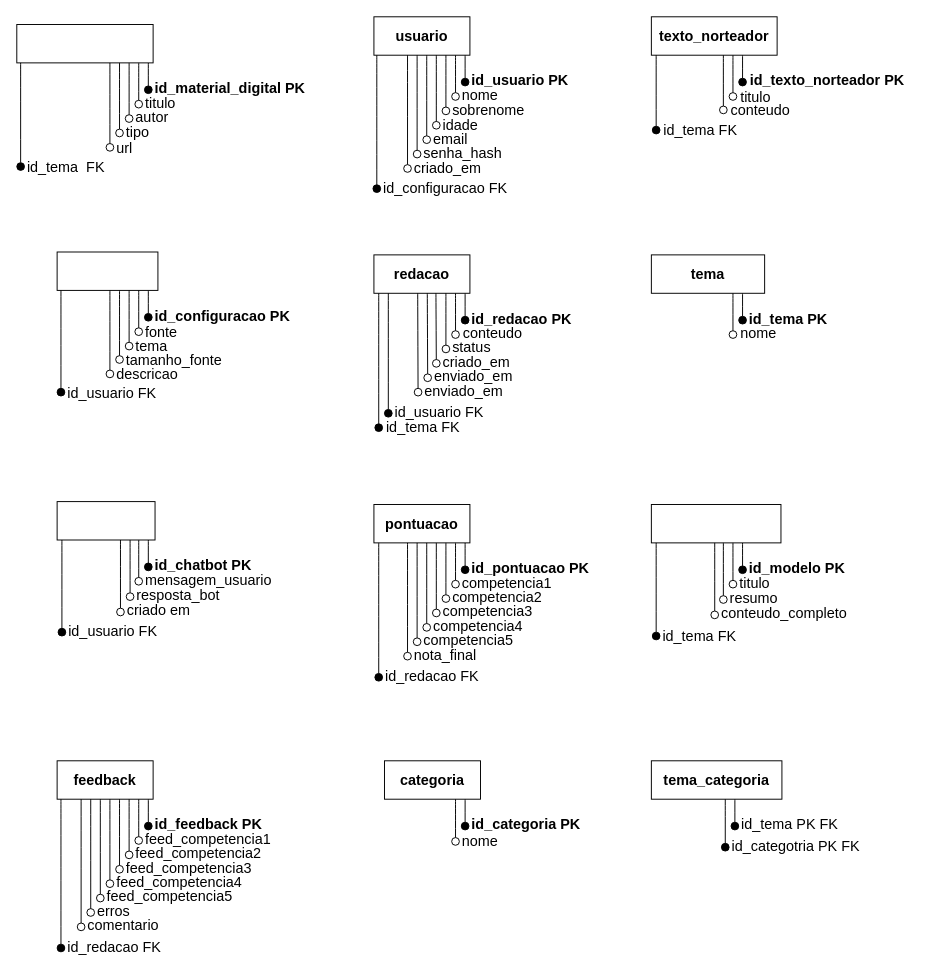
The diagram is 948 pixels wide and 978 high, and some of its shapes have lost their labels. The box of each missing label's shape, as (x1, y1, x2, y2) in pixels:
chatbot: (56, 501, 155, 540)
configuracao: (56, 251, 158, 290)
material_digital: (16, 24, 153, 63)
Modelo: (650, 504, 781, 543)
